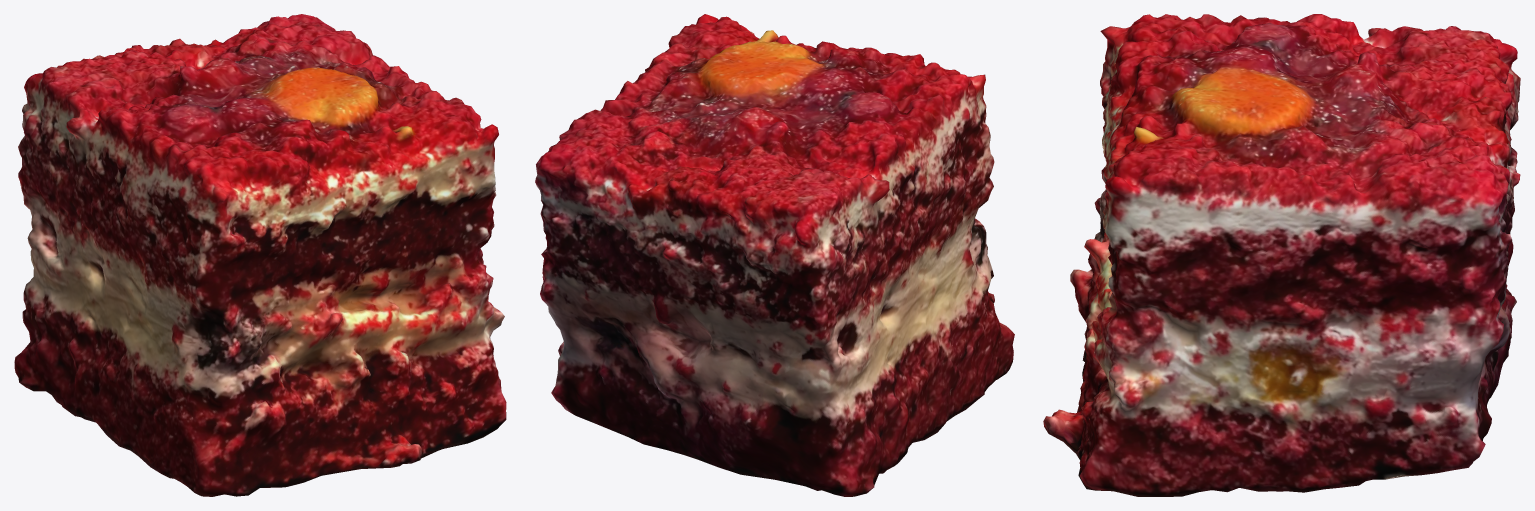
File: frambuazPasta.glb
The picture shows the model from 3 angles, left to right: view 1: azimuth 30°, elevation 25°; view 2: azimuth 150°, elevation 25°; view 3: azimuth 270°, elevation 25°; orthographic projection. The views are drawn at different scales.
Visible parts, largest first — view 1: ObjectCaptureGeometryMesh; view 2: ObjectCaptureGeometryMesh; view 3: ObjectCaptureGeometryMesh.
Part boxes in pixels (x1=…): ObjectCaptureGeometryMesh: x1=14, y1=14, x2=506, y2=496; ObjectCaptureGeometryMesh: x1=535, y1=14, x2=1014, y2=496; ObjectCaptureGeometryMesh: x1=1043, y1=14, x2=1520, y2=496.
Bounding box in the file's own units: 0.0626 × 0.0583 × 0.0712.
Materials: 1 (1 with a texture image).
